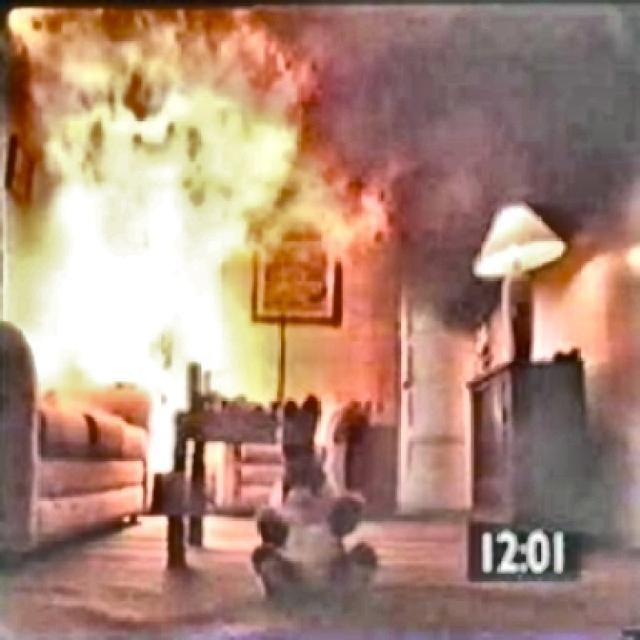fire: (11, 11, 292, 429)
smoke: (309, 12, 640, 374)
